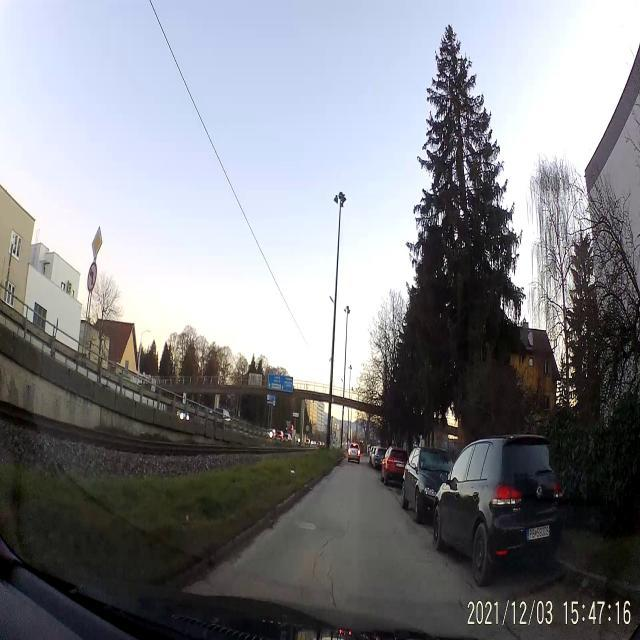Pothole: (290, 513, 318, 533)
